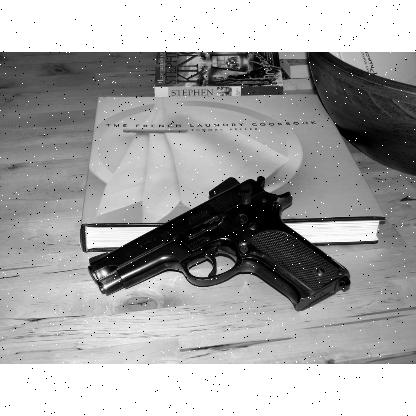gun: (85, 176, 351, 312), (85, 176, 350, 310)
